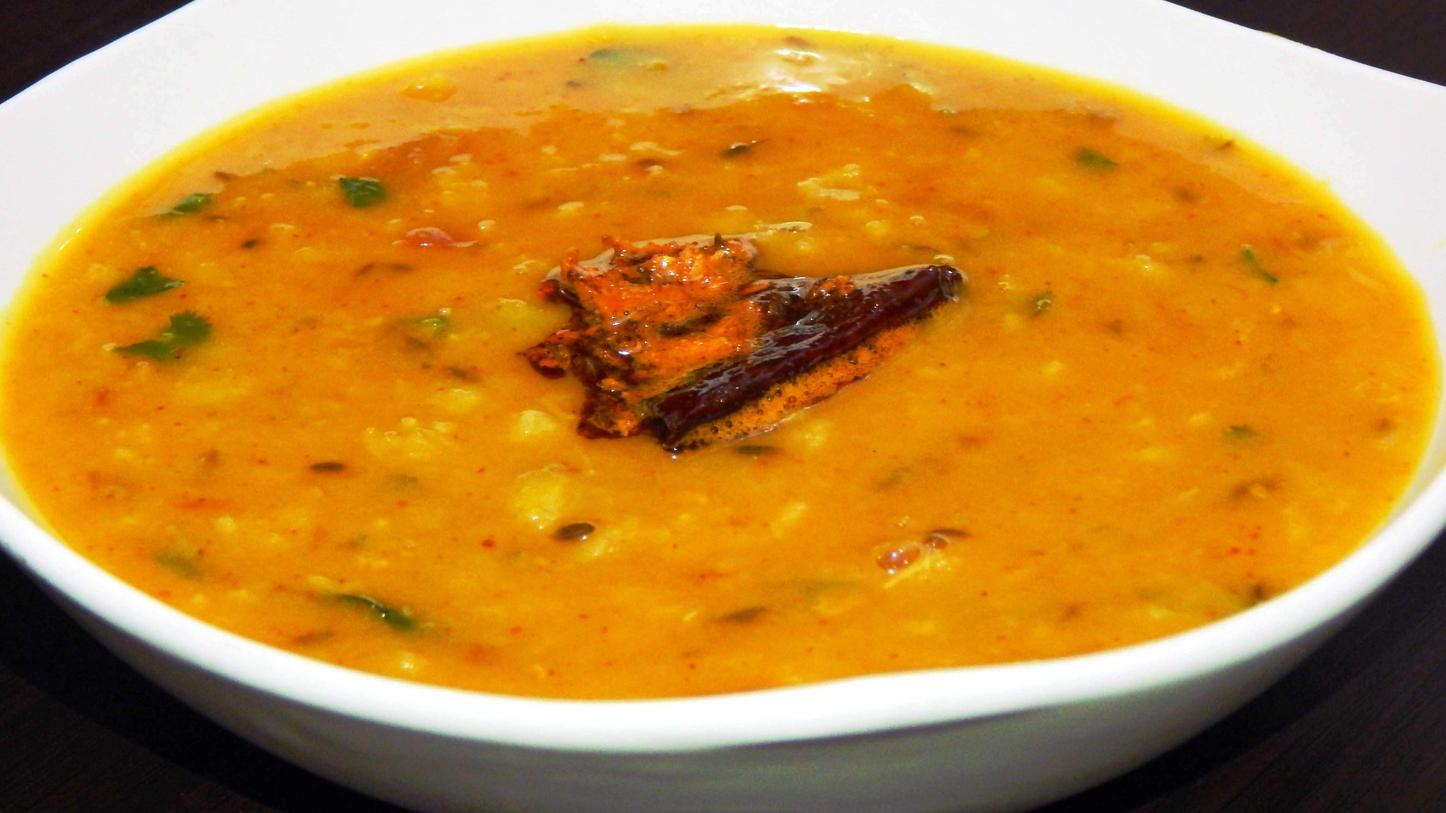Dal: (1, 27, 1446, 699)
